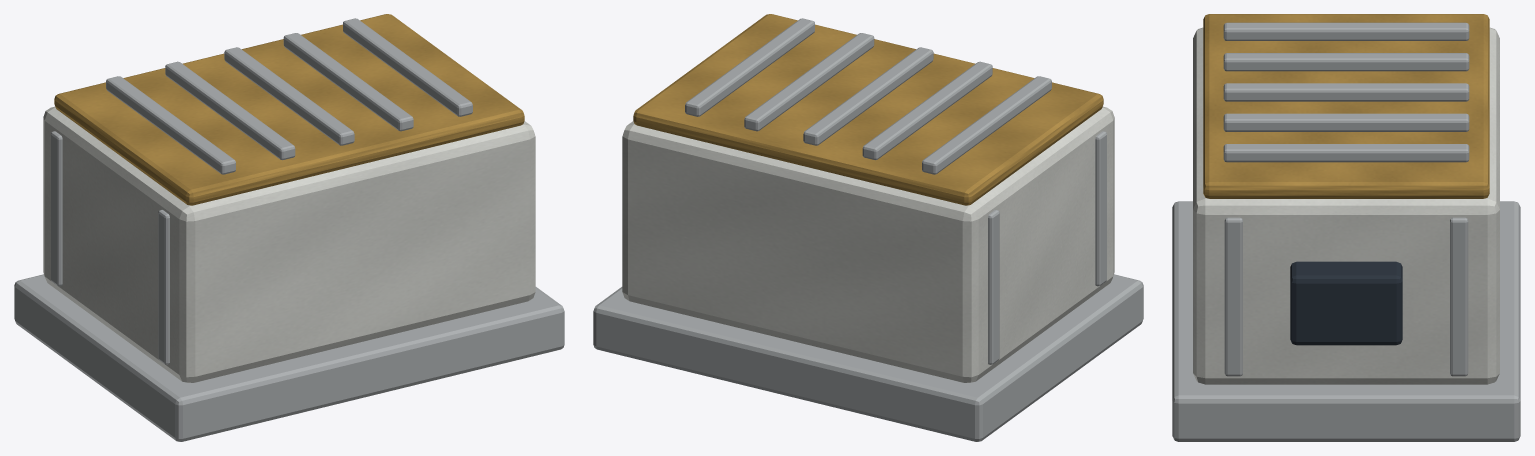
File: battery_power_module.glb
3 views of the same model, side by side, from view 1: azimuth 30°, elevation 25°; view 2: azimuth 150°, elevation 25°; view 3: azimuth 270°, elevation 25° (orthographic). The views are drawn at different scales.
Visible parts, largest first — view 1: Battery_Enclosure, Thermal_Cover, Battery_Mount, Cooling_Rib.002, Cooling_Rib.001, Cooling_Rib.003, Cooling_Rib.004, Cooling_Rib, Retaining_Strap.001, Retaining_Strap; view 2: Battery_Enclosure, Thermal_Cover, Battery_Mount, Cooling_Rib.002, Cooling_Rib.001, Cooling_Rib.003, Cooling_Rib.004, Cooling_Rib, Retaining_Strap, Retaining_Strap.001; view 3: Battery_Enclosure, Thermal_Cover, Battery_Mount, Power_Connector, Cooling_Rib, Cooling_Rib.002, Cooling_Rib.003, Cooling_Rib.004, Cooling_Rib.001, Retaining_Strap, Retaining_Strap.001.
Part boxes in pixels (x1=…): Battery_Enclosure: x1=43, y1=106, x2=535, y2=382; Thermal_Cover: x1=54, y1=14, x2=524, y2=205; Battery_Mount: x1=14, y1=274, x2=564, y2=441; Cooling_Rib.002: x1=224, y1=47, x2=354, y2=145; Cooling_Rib.001: x1=165, y1=61, x2=295, y2=160; Cooling_Rib.003: x1=283, y1=33, x2=413, y2=131; Cooling_Rib.004: x1=343, y1=18, x2=472, y2=116; Cooling_Rib: x1=106, y1=76, x2=235, y2=174; Retaining_Strap.001: x1=51, y1=131, x2=62, y2=286; Retaining_Strap: x1=158, y1=209, x2=169, y2=364; Battery_Enclosure: x1=622, y1=106, x2=1114, y2=382; Thermal_Cover: x1=633, y1=14, x2=1103, y2=205; Battery_Mount: x1=593, y1=274, x2=1143, y2=441; Cooling_Rib.002: x1=803, y1=47, x2=933, y2=145; Cooling_Rib.001: x1=862, y1=61, x2=992, y2=160; Cooling_Rib.003: x1=744, y1=33, x2=874, y2=131; Cooling_Rib.004: x1=685, y1=18, x2=814, y2=116; Cooling_Rib: x1=922, y1=76, x2=1051, y2=174; Retaining_Strap: x1=1095, y1=131, x2=1106, y2=286; Retaining_Strap.001: x1=988, y1=209, x2=999, y2=364; Battery_Enclosure: x1=1193, y1=27, x2=1499, y2=384; Thermal_Cover: x1=1203, y1=14, x2=1489, y2=198; Battery_Mount: x1=1172, y1=201, x2=1520, y2=441; Power_Connector: x1=1290, y1=261, x2=1402, y2=345; Cooling_Rib: x1=1223, y1=22, x2=1469, y2=40; Cooling_Rib.002: x1=1223, y1=83, x2=1469, y2=101; Cooling_Rib.003: x1=1223, y1=113, x2=1469, y2=131; Cooling_Rib.004: x1=1223, y1=144, x2=1469, y2=162; Cooling_Rib.001: x1=1223, y1=53, x2=1469, y2=71; Retaining_Strap: x1=1224, y1=217, x2=1242, y2=376; Retaining_Strap.001: x1=1450, y1=217, x2=1468, y2=376.
Bounding box in the file's own units: 0.4775 × 0.279 × 0.34.
Materials: 4 (2 with a texture image).
